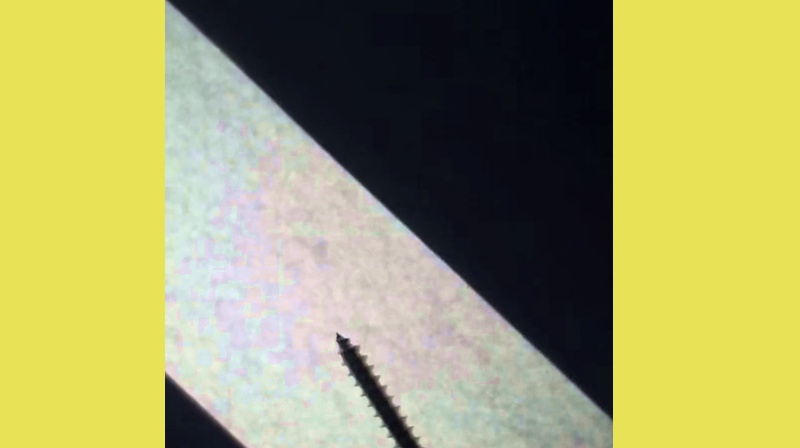S001: (330, 328, 454, 447)
